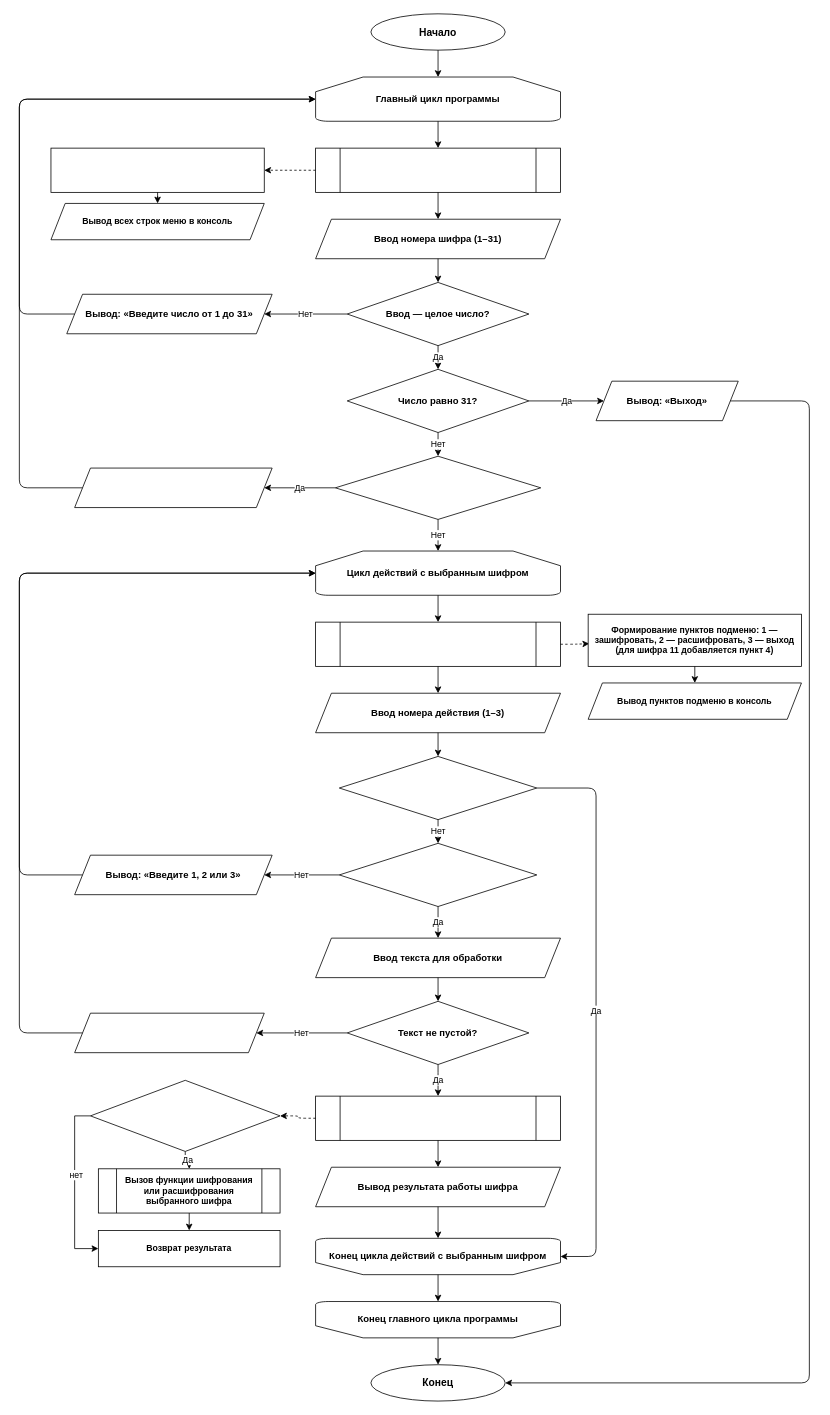
The diagram is 830 pixels wide and 1415 high, and some of its shapes have lost their labels. Here are the shapes that lost their labels. From the top down, the centre of each, then its label:
the point at 157,169: Формирование строк меню: список шифров 1–31 двумя столбцами
the point at 438,169: Вывод главного меню выбора шифра
the point at 173,487: Вывод: «Нет такого пункта»
the point at 438,487: Число меньше 1 или больше 30?
the point at 438,643: Вывод подменю действия (зашифровать / расшифровать / выход)
the point at 438,788: Действие равно 3 (выход)?
the point at 438,875: Действие равно 1 или 2?
the point at 169,1032: Вывод: «Текст не введён»
the point at 185,1115: Номер шифра совпадает с даными ноерами?
the point at 438,1117: Вызов шифра по номеру
